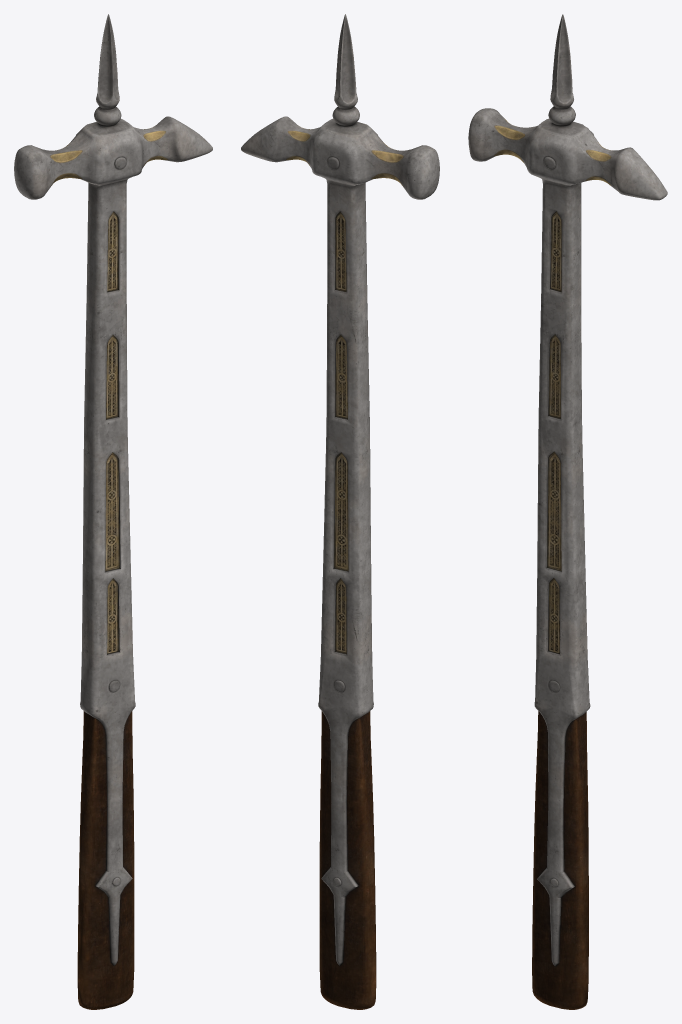
The model's file is hammer.glb.
3 views of the same model, side by side, from view 1: azimuth 30°, elevation 25°; view 2: azimuth 150°, elevation 25°; view 3: azimuth 330°, elevation 25° (orthographic).
Visible parts, largest first — view 1: ornate_war_hammer; view 2: ornate_war_hammer; view 3: ornate_war_hammer.
Part boxes in pixels (x1,y1,x2,y2): ornate_war_hammer: (14,14,212,1009); ornate_war_hammer: (241,14,439,1009); ornate_war_hammer: (468,14,667,1009).
Size of the model in its own units: 0.1441 by 0.7112 by 0.0348.
Materials: 1 (1 with a texture image).
